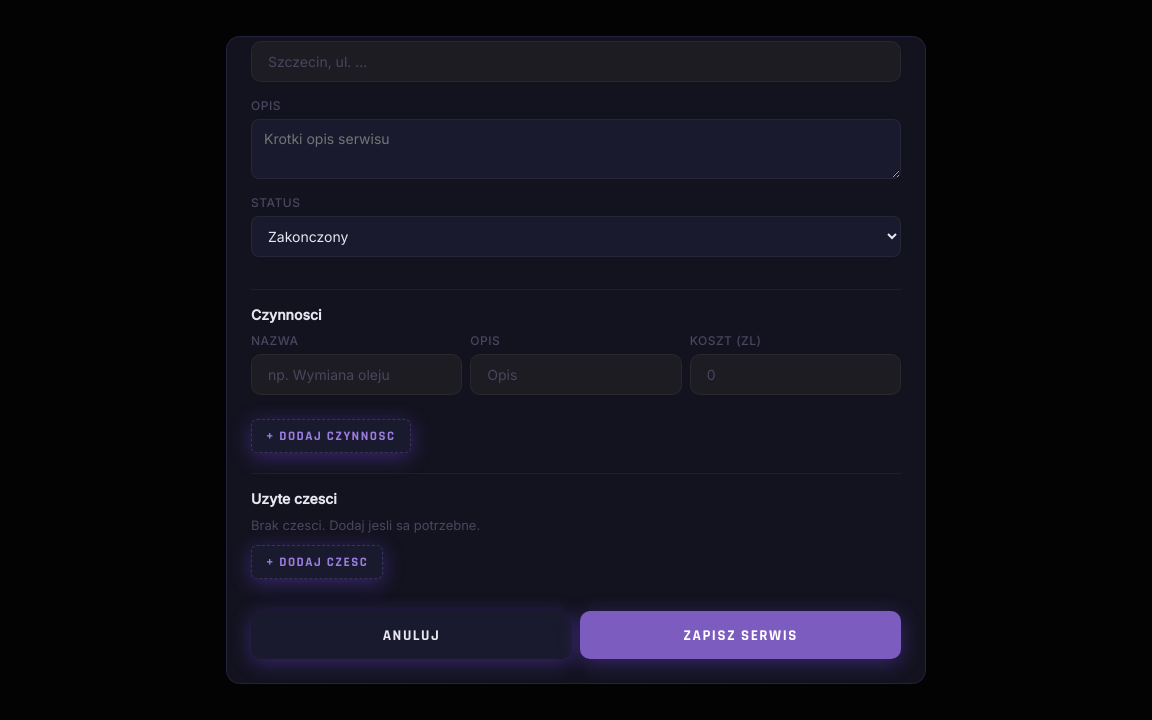
Scenario: ServiceForm › pokazuje blad gdy nie wybrano pojazdu
The width and height of the screenshot is (1152, 720).
(page scrolled)
Click the button "Zapisz serwis": (740, 635) [580,611,901,659]
(page scrolled)
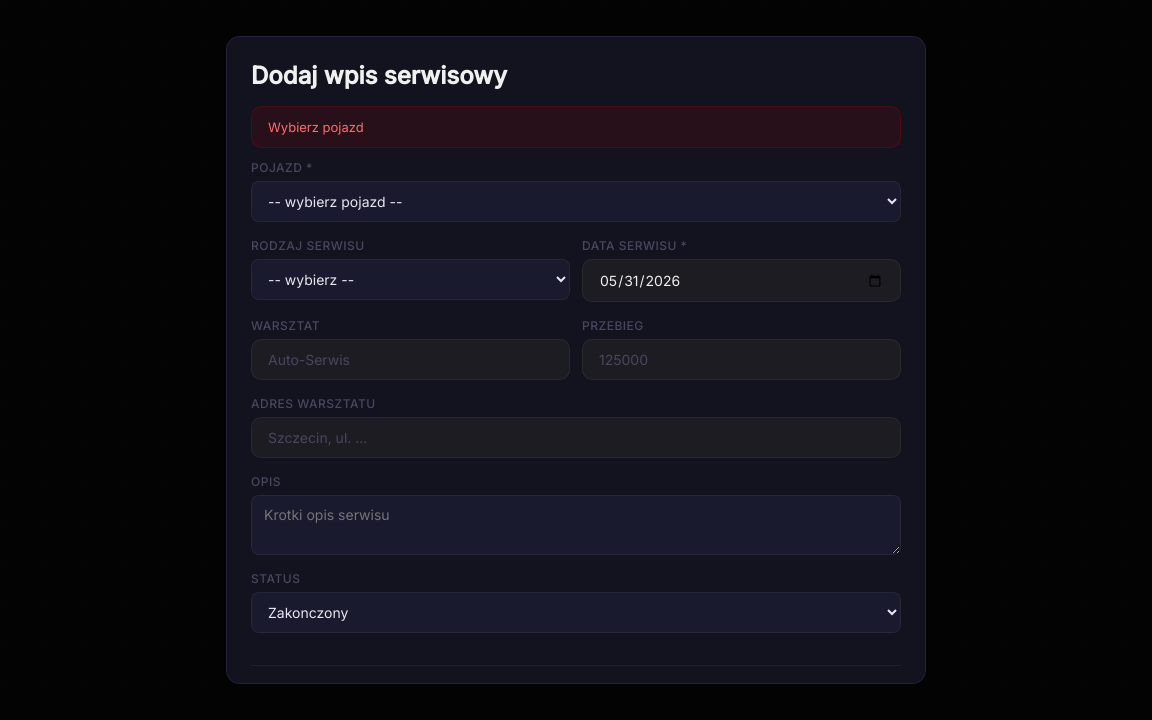
Expected: the text "Wybierz pojazd" is shown, [251,106,901,148]
